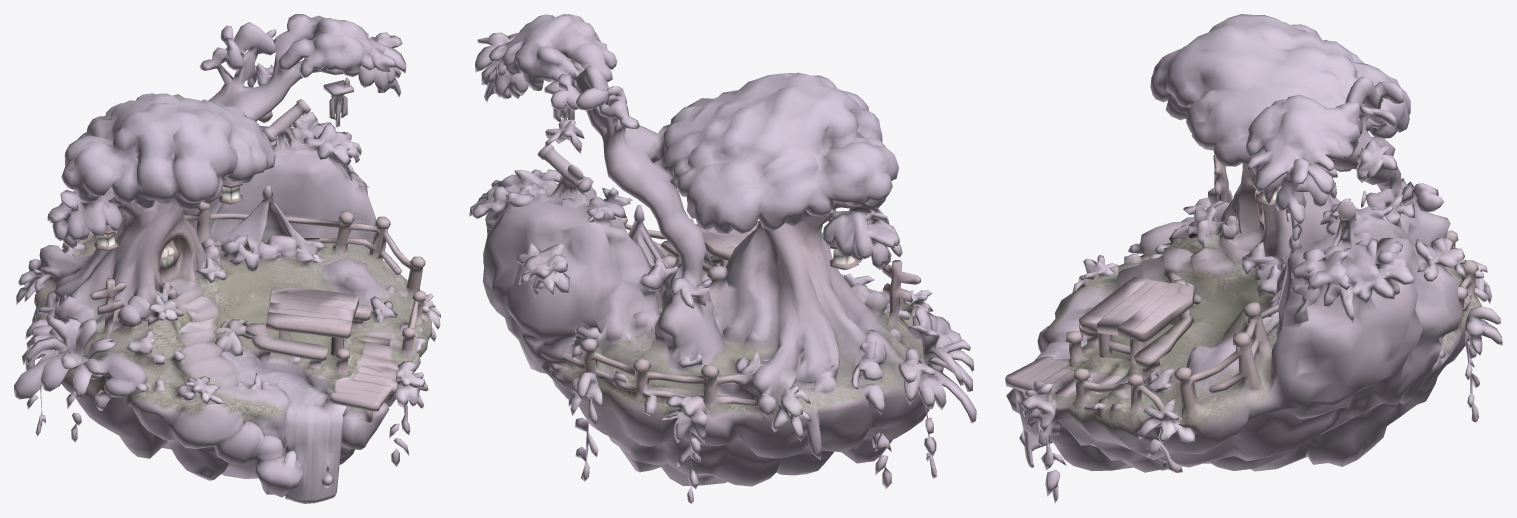
The model's file is 微風森林.glb.
The picture shows the model from 3 angles, left to right: view 1: azimuth 30°, elevation 25°; view 2: azimuth 150°, elevation 25°; view 3: azimuth 270°, elevation 25°; orthographic projection. The views are drawn at different scales.
Visible parts, largest first — view 1: tripo_node_4c250f74-d386-47e9-8283-57cbf6662252; view 2: tripo_node_4c250f74-d386-47e9-8283-57cbf6662252; view 3: tripo_node_4c250f74-d386-47e9-8283-57cbf6662252.
Boxes of the visible parts, x1,y1,x2,y2 form: tripo_node_4c250f74-d386-47e9-8283-57cbf6662252: [14, 14, 440, 503]; tripo_node_4c250f74-d386-47e9-8283-57cbf6662252: [469, 14, 976, 503]; tripo_node_4c250f74-d386-47e9-8283-57cbf6662252: [1005, 14, 1502, 503].
Bounding box in the file's own units: 0.9779 × 0.8554 × 0.8783.
Materials: 1 (1 with a texture image).
